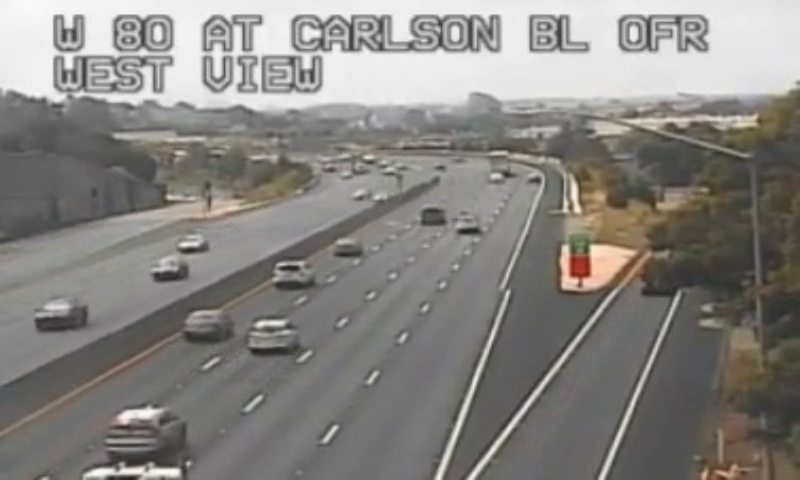car: (106, 407, 185, 454), (246, 317, 297, 350), (182, 308, 231, 337), (270, 259, 310, 286)
